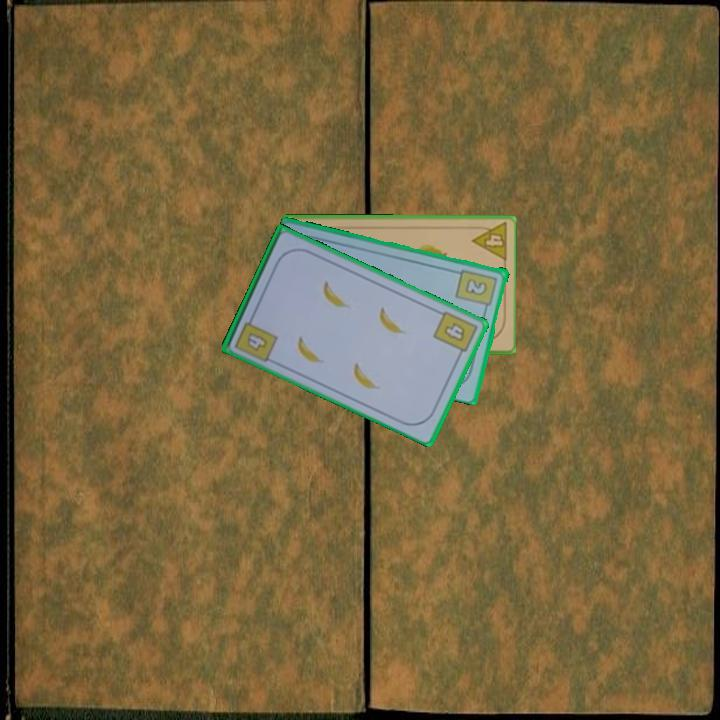2b: (453, 265, 500, 314)
4b: (430, 307, 480, 361), (231, 311, 280, 365)
4p: (467, 219, 509, 263)
